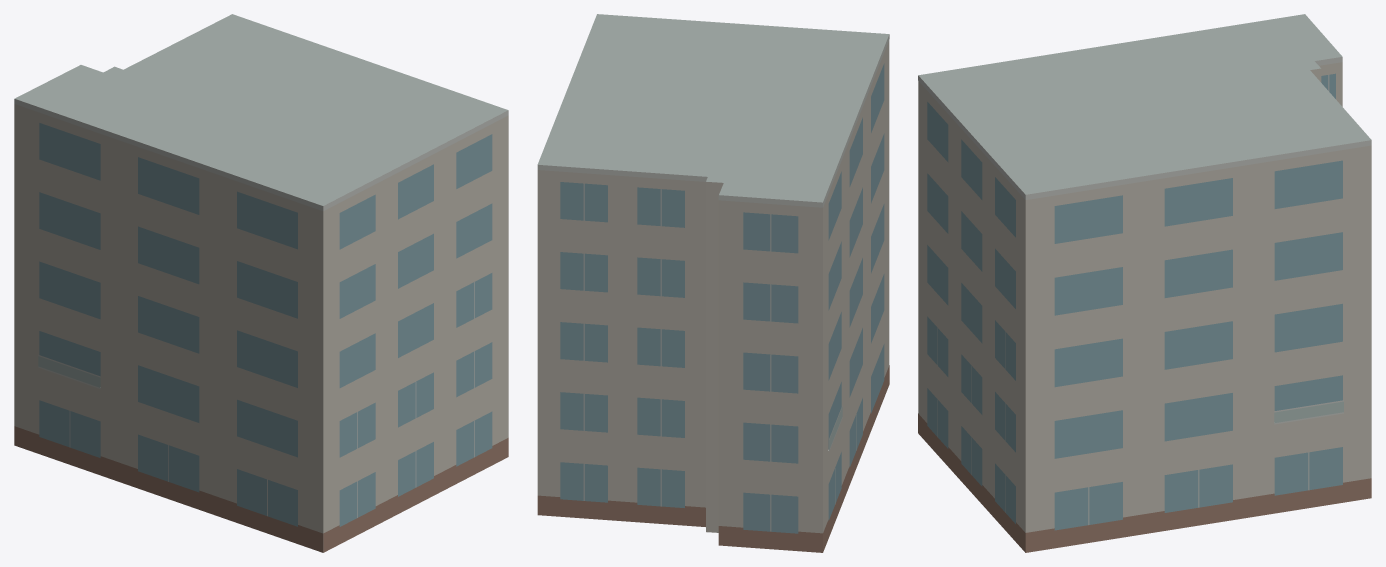
Rendered from survey-upis-32841707.glb.
3 views of the same model, side by side, from view 1: azimuth 30°, elevation 25°; view 2: azimuth 150°, elevation 25°; view 3: azimuth 270°, elevation 25° (orthographic). The views are drawn at different scales.
Visible parts, largest first — view 1: survey-upis-32841707.tmp; view 2: survey-upis-32841707.tmp; view 3: survey-upis-32841707.tmp.
Part boxes in pixels (x1,y1,x2,y2): survey-upis-32841707.tmp: (14, 14, 508, 552); survey-upis-32841707.tmp: (537, 14, 889, 552); survey-upis-32841707.tmp: (918, 14, 1371, 552).
Bounding box in the file's own units: 17.73 × 16.36 × 18.79.
